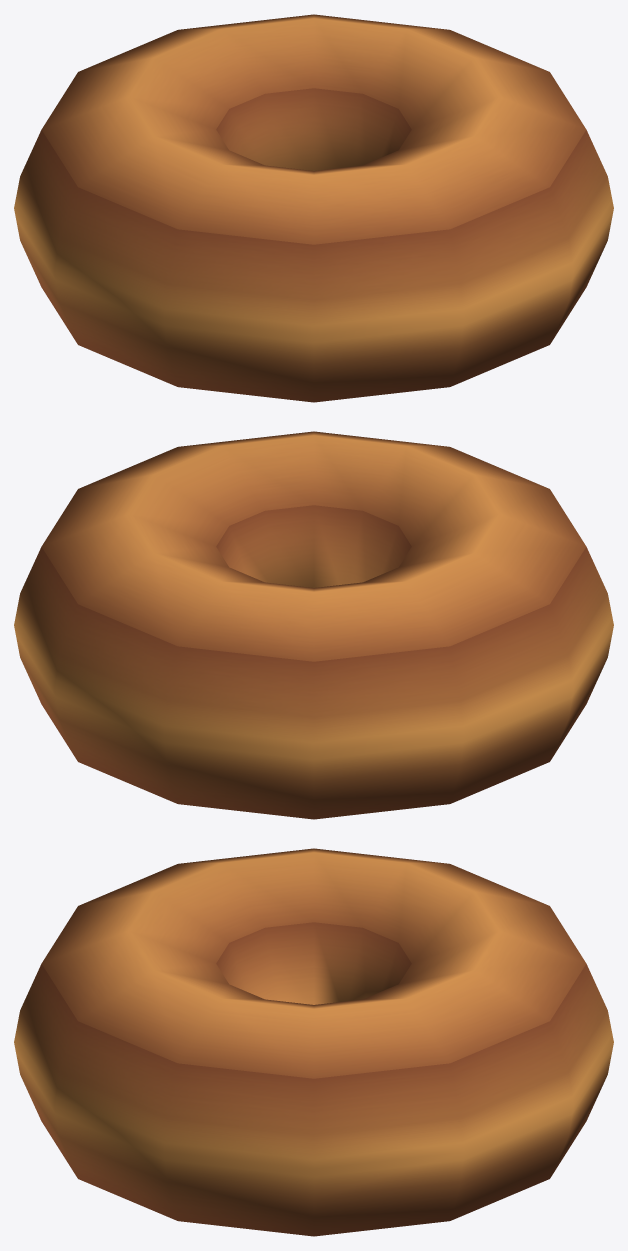
File: m_Donut07_Glazed.fbx
3 views of the same model, one above another, from view 1: azimuth 30°, elevation 25°; view 2: azimuth 150°, elevation 25°; view 3: azimuth 270°, elevation 25° (orthographic).
Visible parts, largest first — view 1: m_Donut07_Glazed; view 2: m_Donut07_Glazed; view 3: m_Donut07_Glazed.
Boxes of the visible parts, <box> form: m_Donut07_Glazed: <box>14,14,613,402</box>; m_Donut07_Glazed: <box>14,431,613,819</box>; m_Donut07_Glazed: <box>14,848,613,1236</box>.
Bounding box in the file's own units: 12.16 × 4.99 × 12.16.
